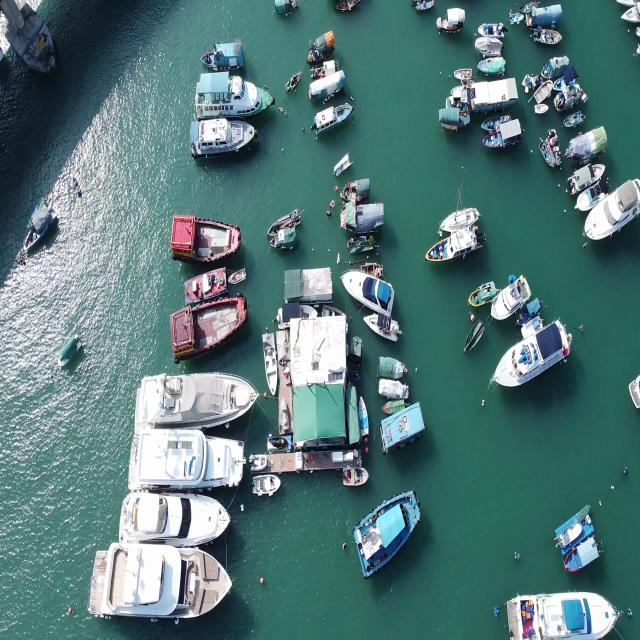ship: (92, 544, 232, 622), (128, 428, 247, 489), (353, 488, 422, 578), (122, 490, 229, 544), (134, 376, 258, 422), (503, 592, 622, 638), (492, 318, 572, 384), (170, 294, 247, 346), (585, 175, 639, 238), (168, 213, 238, 258), (196, 75, 274, 111), (340, 267, 396, 316), (190, 118, 256, 152)
